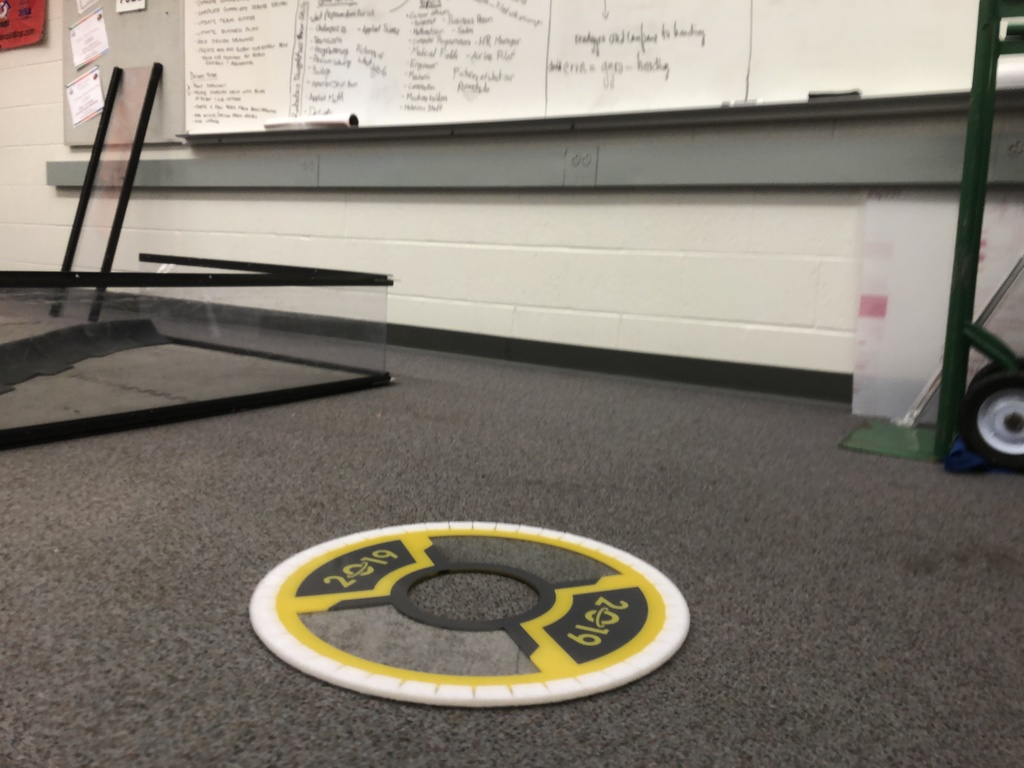hatch_panel: (232, 503, 715, 715)
